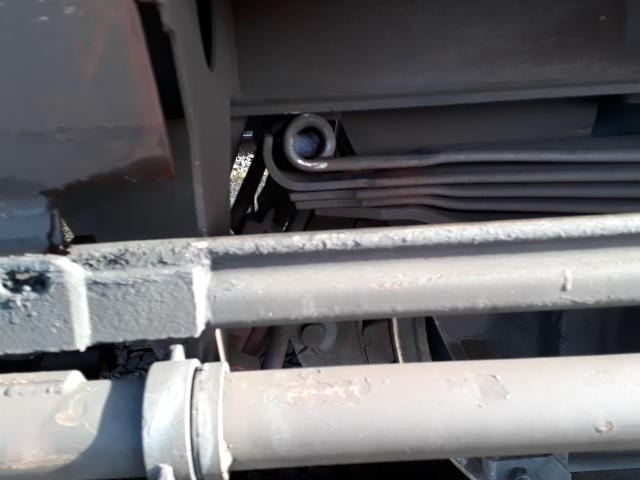blattfederww: (244, 106, 640, 217)
